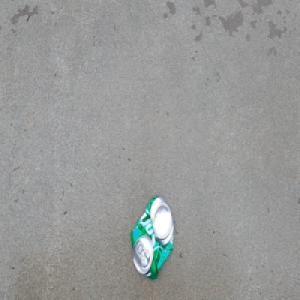SodaCan: (129, 192, 175, 282)
